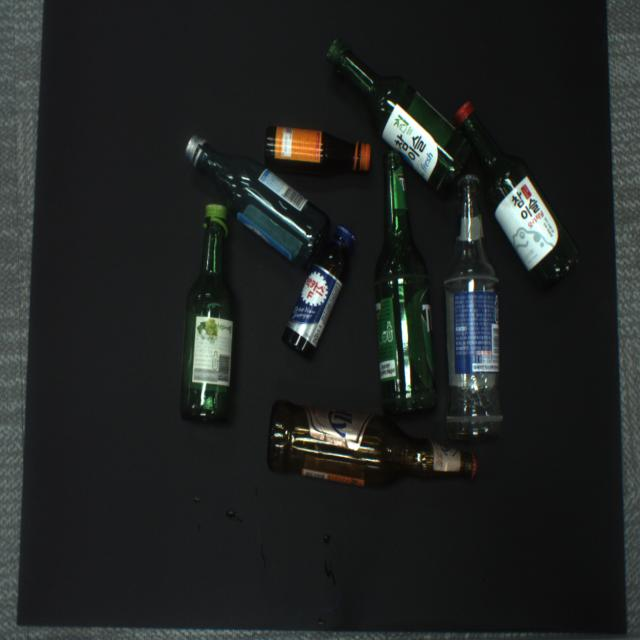beer-bottle: (268, 400, 478, 486), (375, 149, 437, 416), (443, 171, 505, 437)
soju-bottle: (454, 102, 580, 287), (327, 40, 472, 193), (186, 136, 329, 270), (180, 204, 234, 422)
